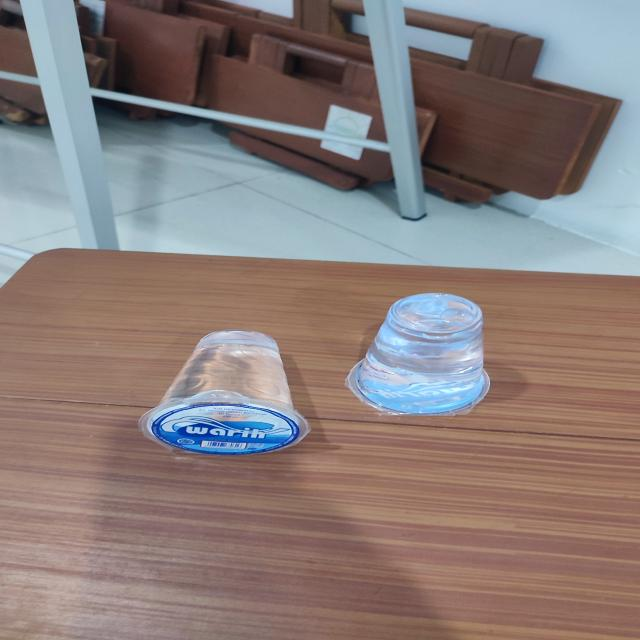air gelas: (131, 327, 326, 461), (333, 288, 502, 426)
